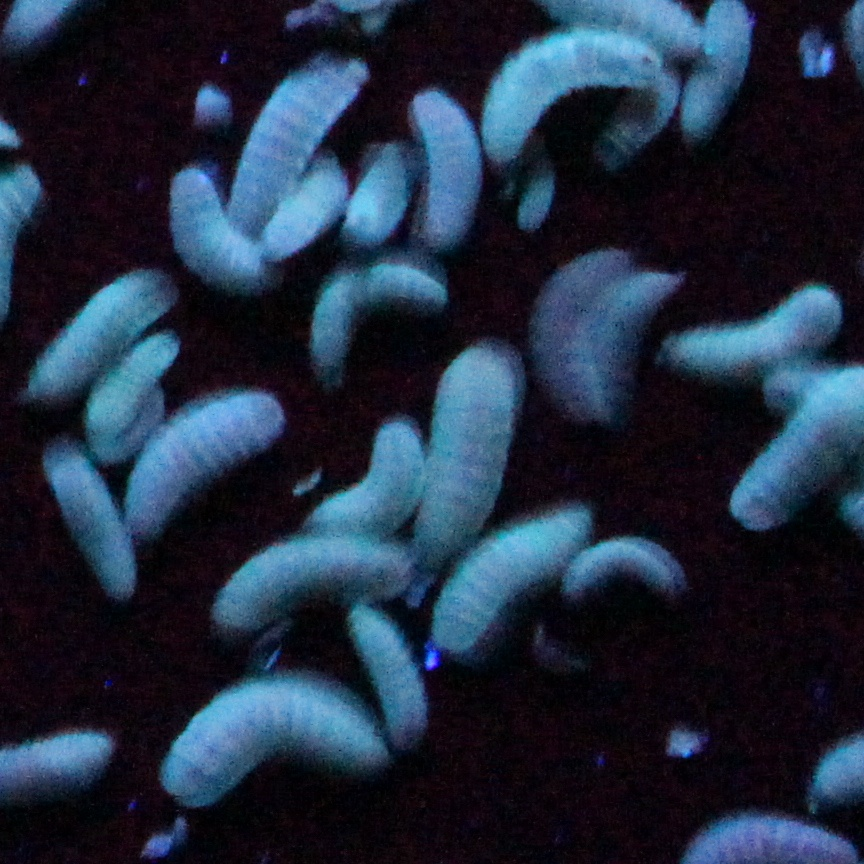larve: (157, 682, 383, 808), (401, 340, 514, 584), (483, 28, 668, 162), (228, 66, 372, 233), (128, 391, 279, 537), (30, 271, 179, 406), (432, 517, 577, 648), (212, 540, 410, 631), (659, 284, 843, 373), (534, 251, 626, 426), (163, 164, 286, 291), (586, 271, 683, 428), (310, 262, 448, 368), (43, 435, 132, 595), (306, 422, 428, 537), (343, 604, 428, 744), (406, 93, 481, 242), (266, 160, 352, 257), (343, 146, 419, 246), (568, 537, 683, 595)
